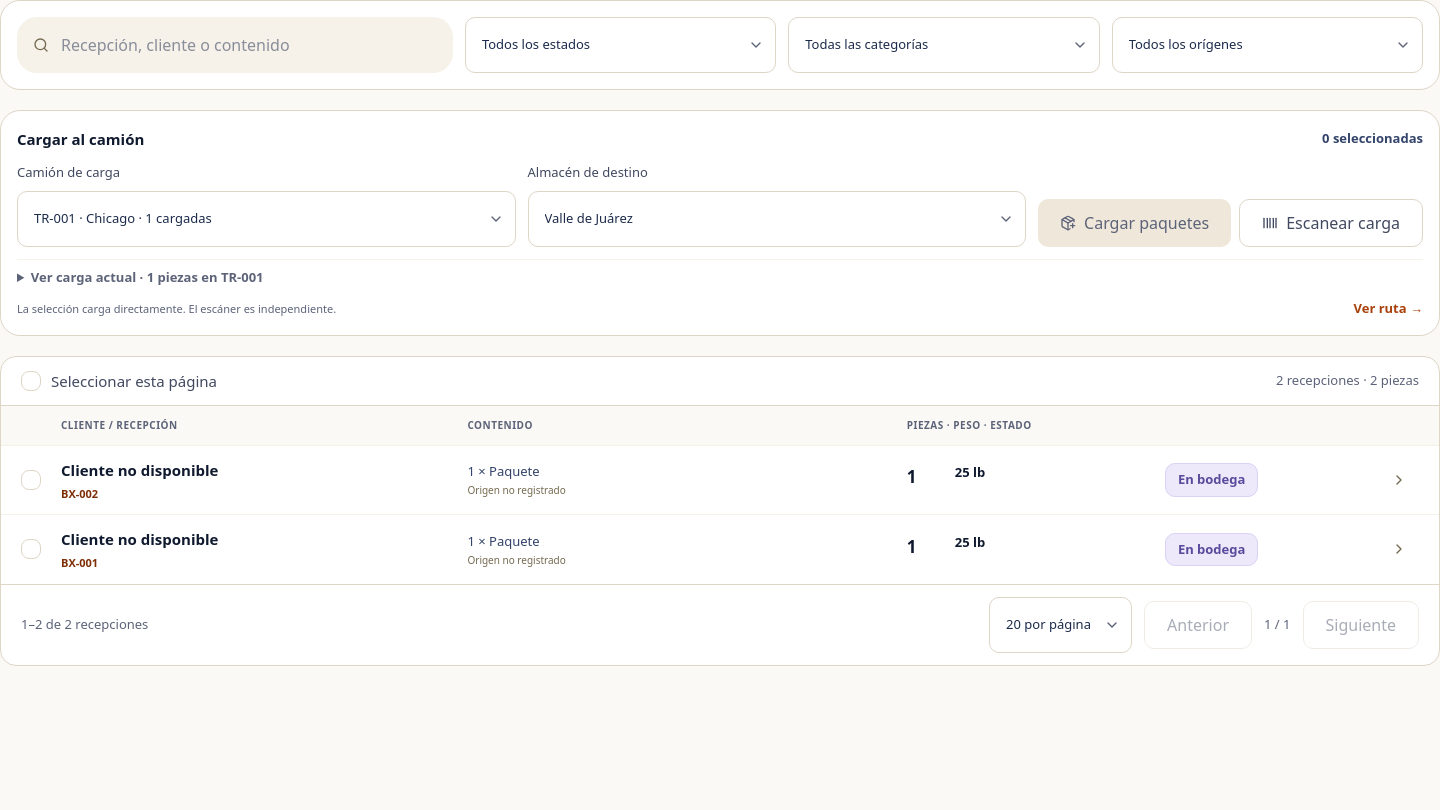
loads the selected boxes directly without opening the scanner
Click the checkbox named "Seleccionar todas las cajas disponibles". click: (31,380)
box: [21, 370, 41, 390]
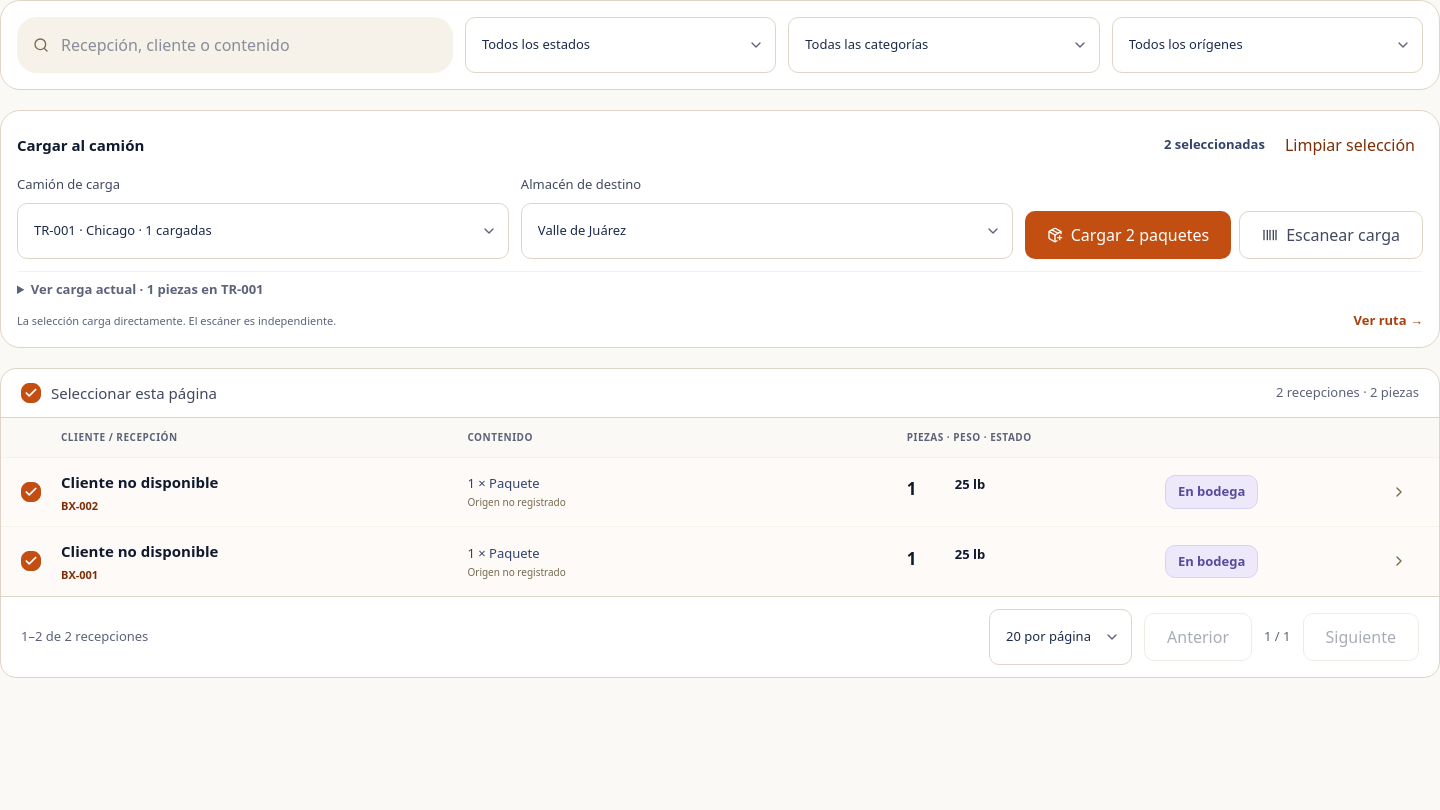
Click the button "Cargar 2 paquetes". click: (1128,234)
box: [1025, 210, 1231, 258]
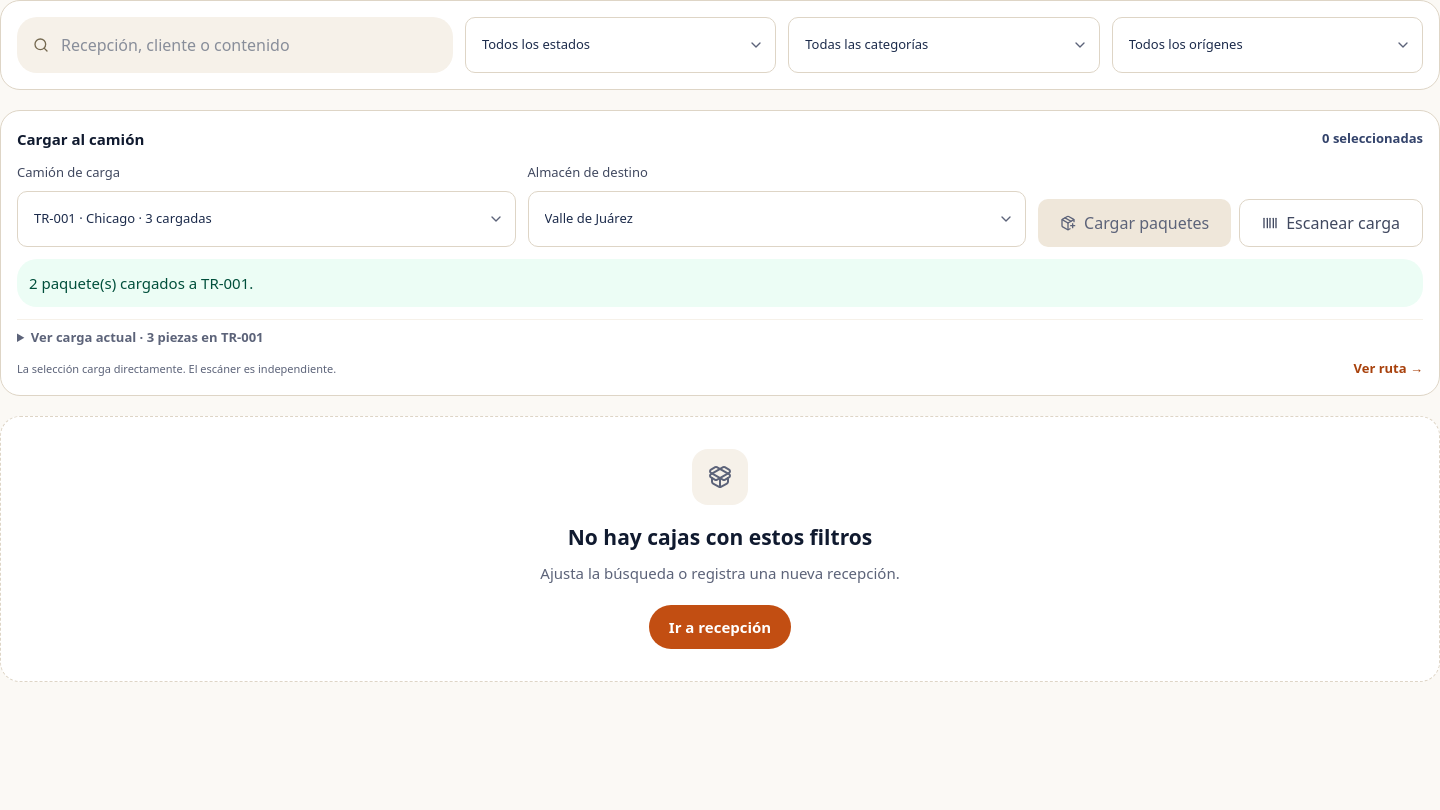
Check: the text "0 seleccionadas" is shown, box [1322, 129, 1423, 149]
Check: the message "2 paquete(s) cargados a TR-001." is shown, box [17, 258, 1423, 306]
